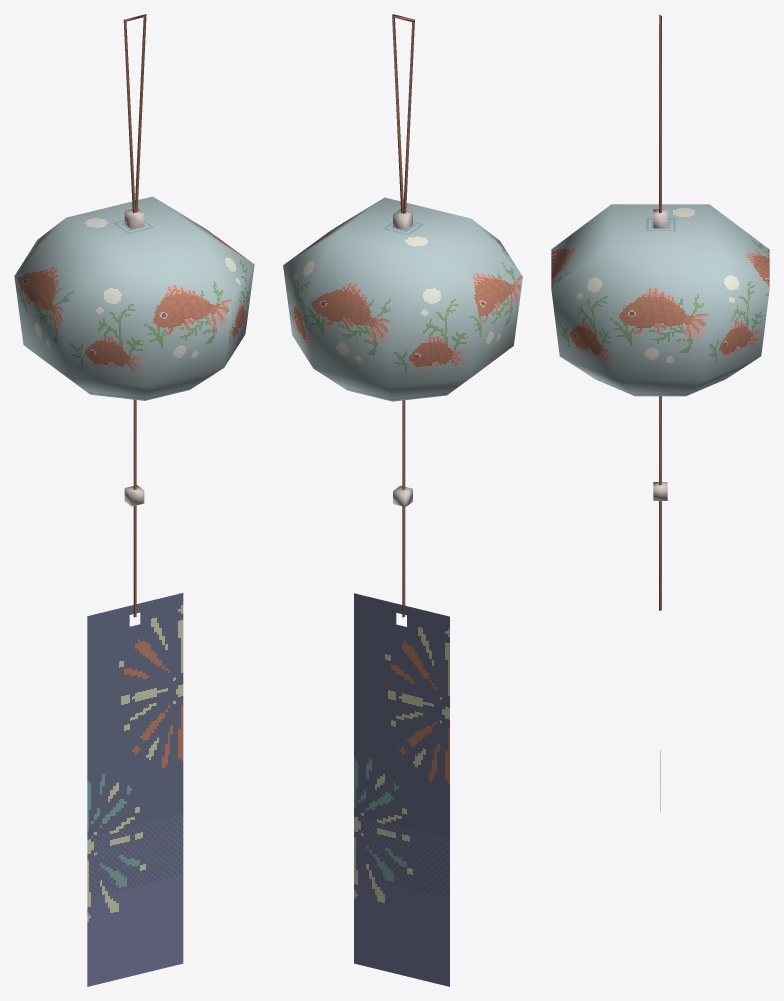
File: 0515_Windchime.glb
3 views of the same model, side by side, from view 1: azimuth 30°, elevation 25°; view 2: azimuth 150°, elevation 25°; view 3: azimuth 270°, elevation 25° (orthographic).
Parts seen in each view (by area): view 1: part_0; view 2: part_0; view 3: part_0.
Part boxes in pixels (x1,y1,x2,y2): part_0: (14,14,254,986); part_0: (283,14,522,986); part_0: (551,14,769,811).
Size of the model in its own units: 0.0505 by 0.2409 by 0.0505.
Materials: 1 (1 with a texture image).
